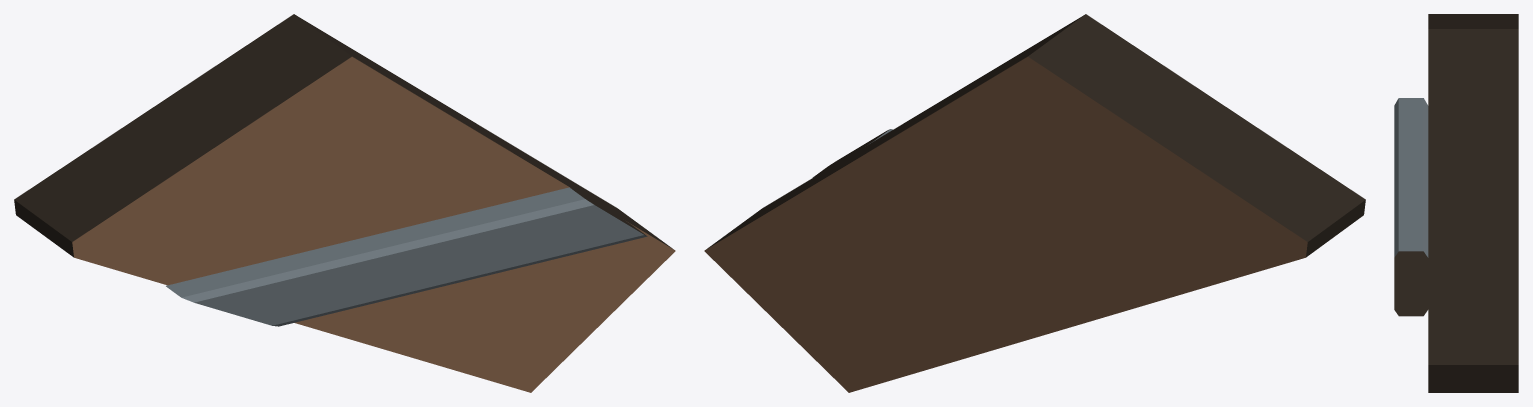
Rendered from SM_DoorShard_03_55.fbx.
3 renders of one model, left to right at view 1: azimuth 30°, elevation 25°; view 2: azimuth 150°, elevation 25°; view 3: azimuth 270°, elevation 25°, orthographic. The views are drawn at different scales.
Visible parts, largest first — view 1: SM_DoorShard_03_55; view 2: SM_DoorShard_03_55; view 3: SM_DoorShard_03_55.
Part boxes in pixels (x1,y1,x2,y2): SM_DoorShard_03_55: (14,14,675,392); SM_DoorShard_03_55: (704,14,1365,392); SM_DoorShard_03_55: (1394,14,1518,392).
Size of the model in its own units: 95.91 by 22 by 57.7.
